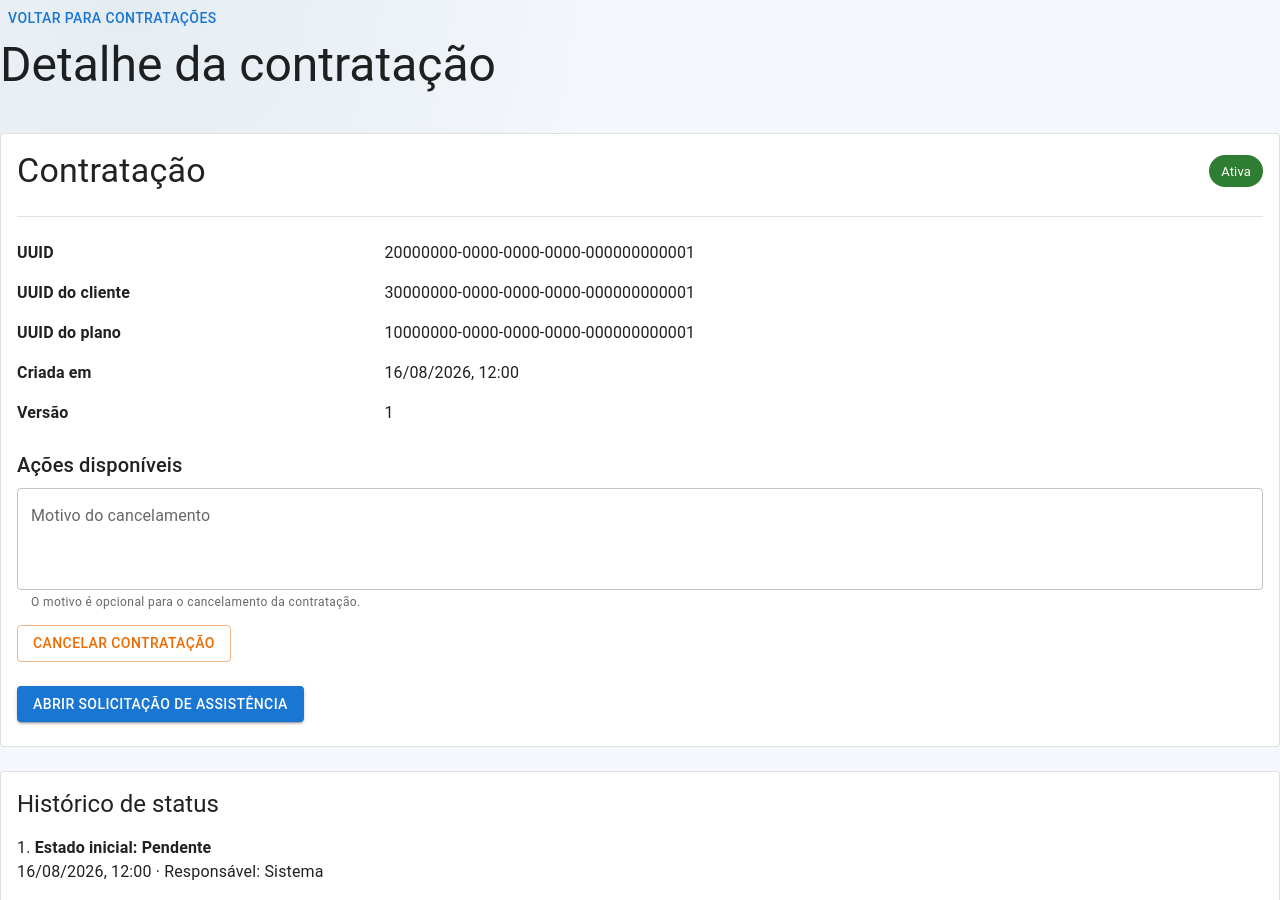
Scenario: PaginaDetalheContratacao › cancela uma contratacao ativa com motivo opcional informado
Type "Mudança de necessidade" into the text box labelled "Motivo do cancelamento".
click(640, 539); type("Mudança de necessidade")  # box [31,505,1249,574]
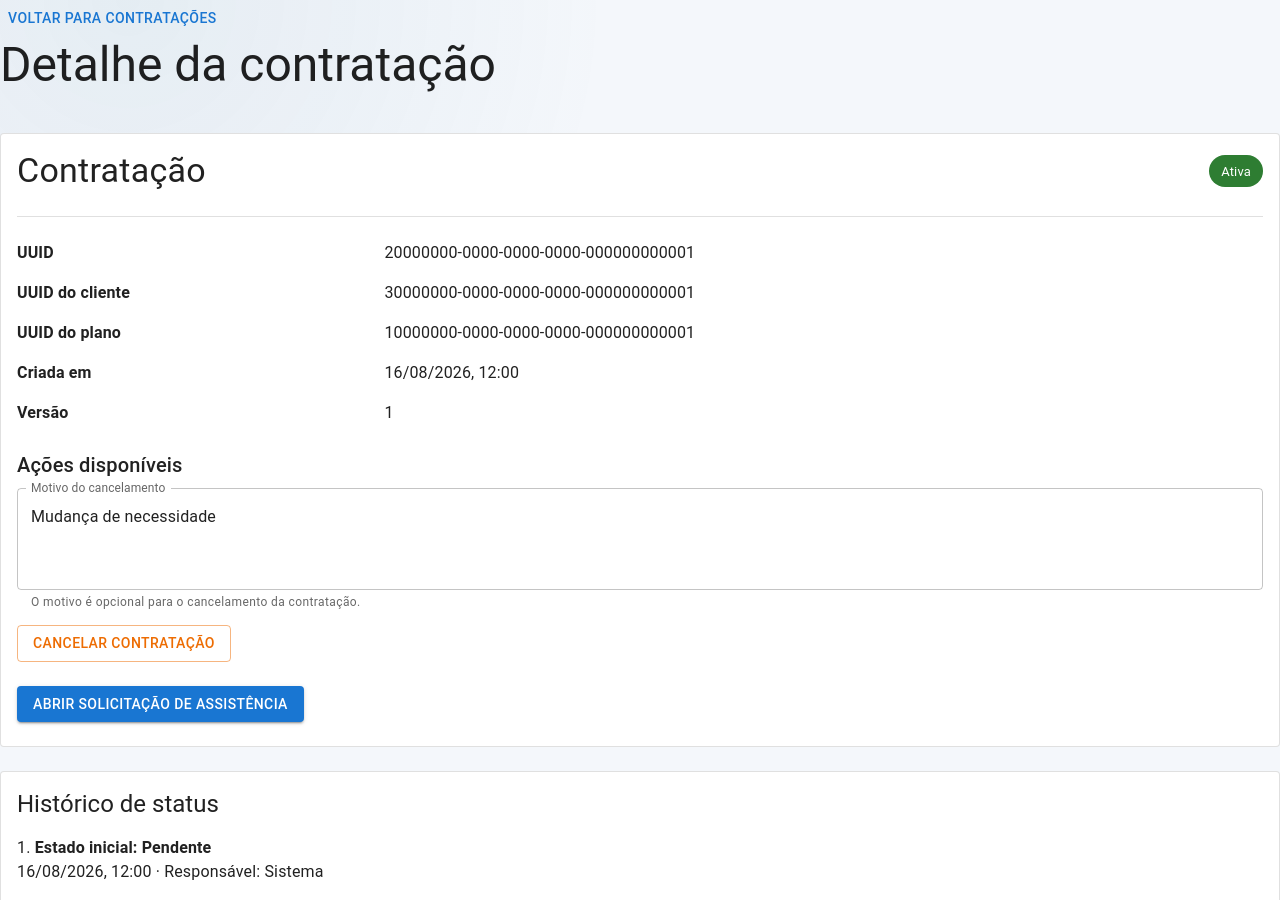
Click the button "Cancelar contratação".
click(124, 643)  # box [17,625,231,662]
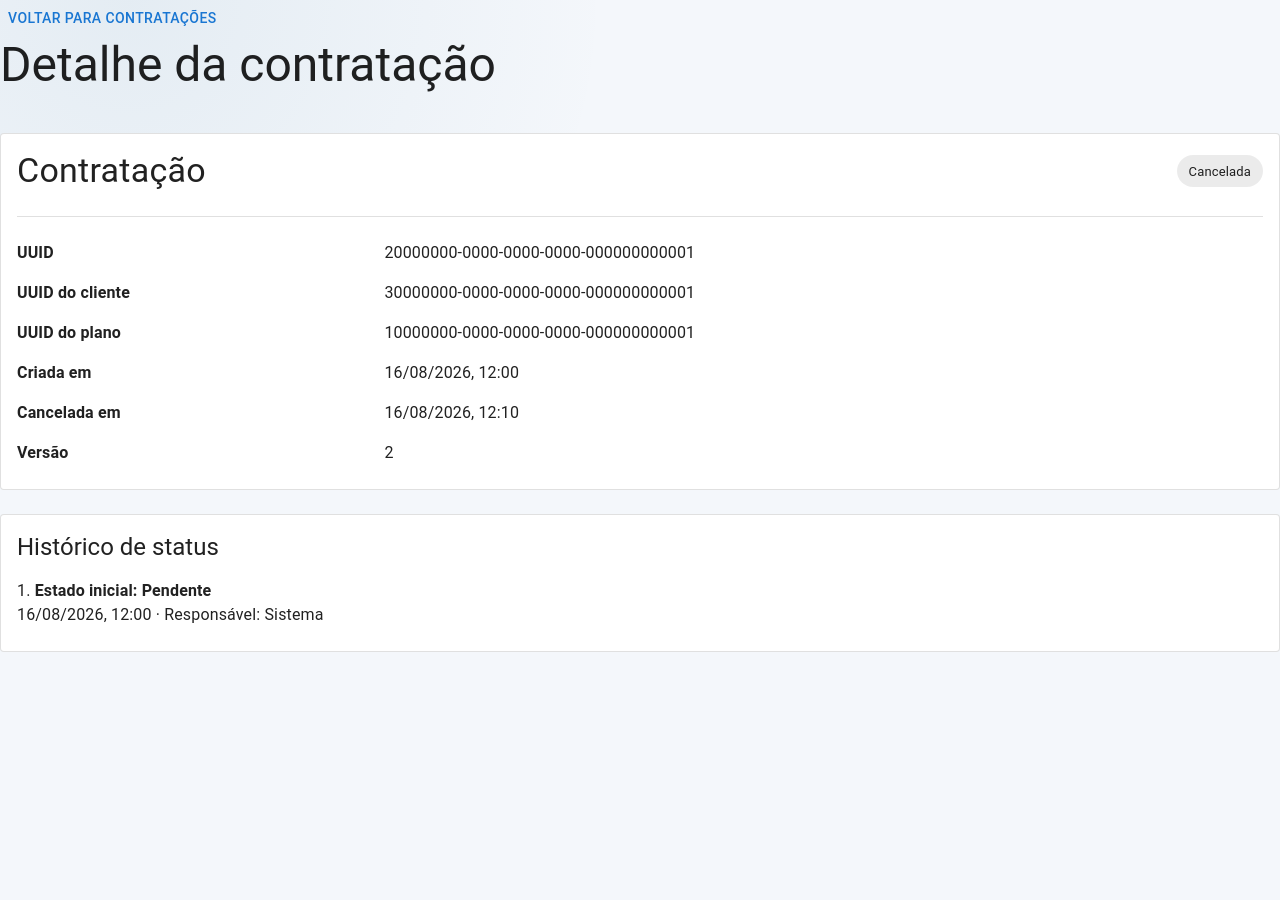
Now the element named "Status: Cancelada" is shown, box [1177,155,1263,187]
Now the button "Cancelar contratação" is gone
